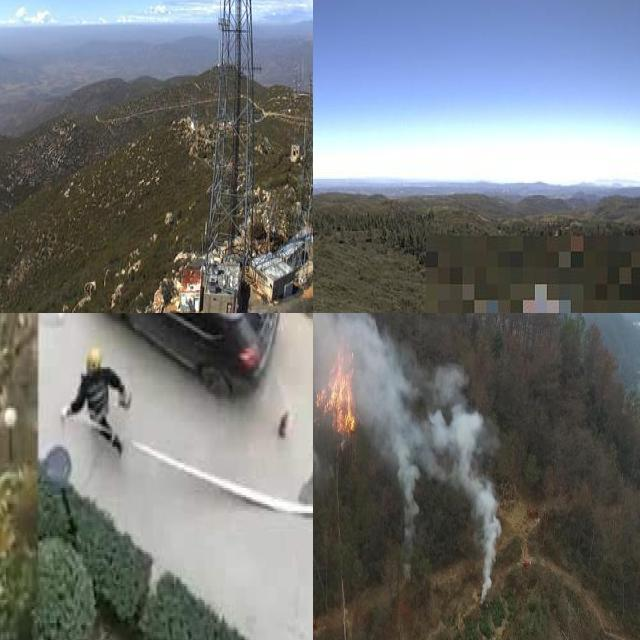fire: (313, 313, 378, 456)
smoke: (313, 313, 502, 543)
